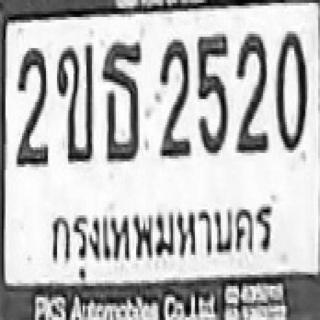A02: (55, 42, 92, 162)
A24: (101, 40, 142, 158)
N00: (274, 28, 305, 150)
N02: (235, 31, 268, 150), (157, 37, 190, 156), (14, 45, 47, 164)
N05: (196, 31, 227, 153)
P04: (42, 188, 277, 276)
